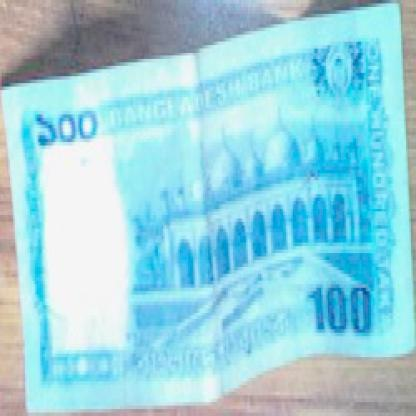one hundred taka: (305, 277, 376, 340), (31, 104, 102, 153)
